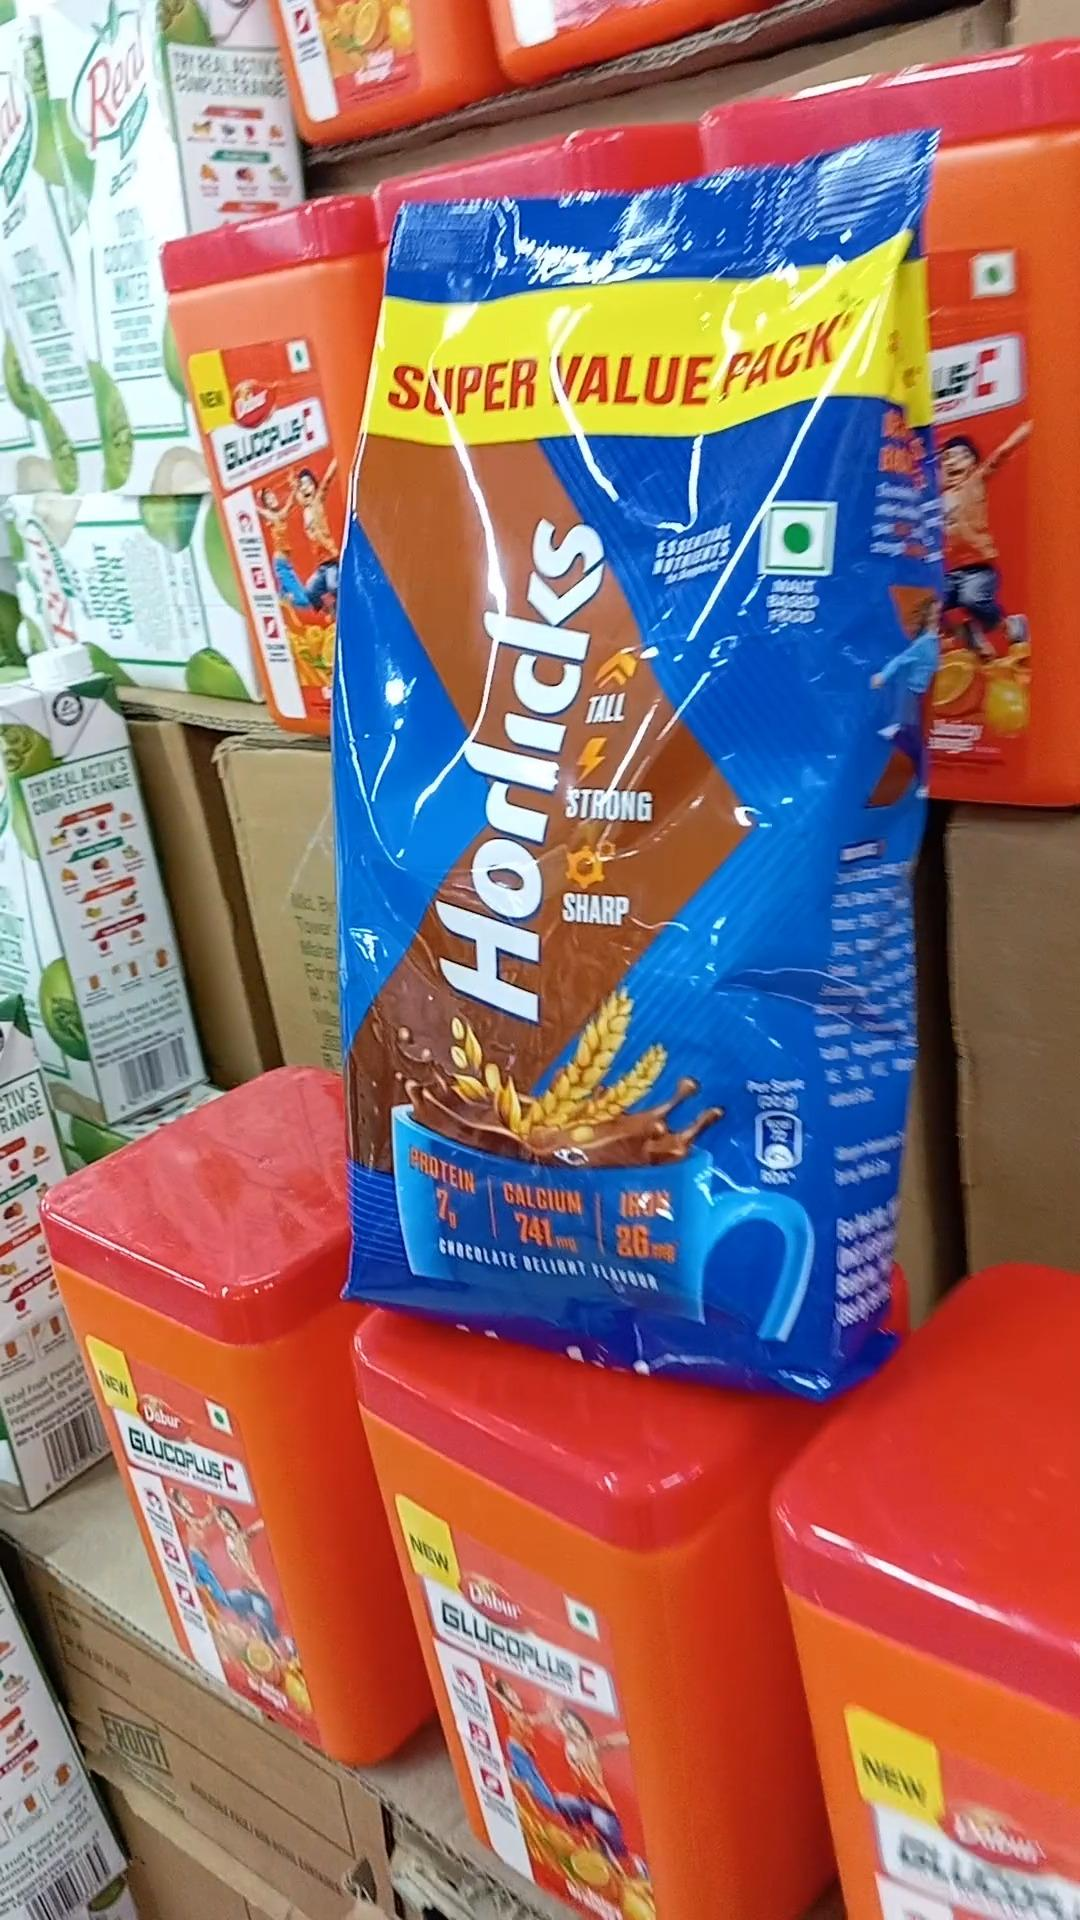HORLICK_CHOCOLATE_750_G_POUCH: (361, 167, 866, 1371)
